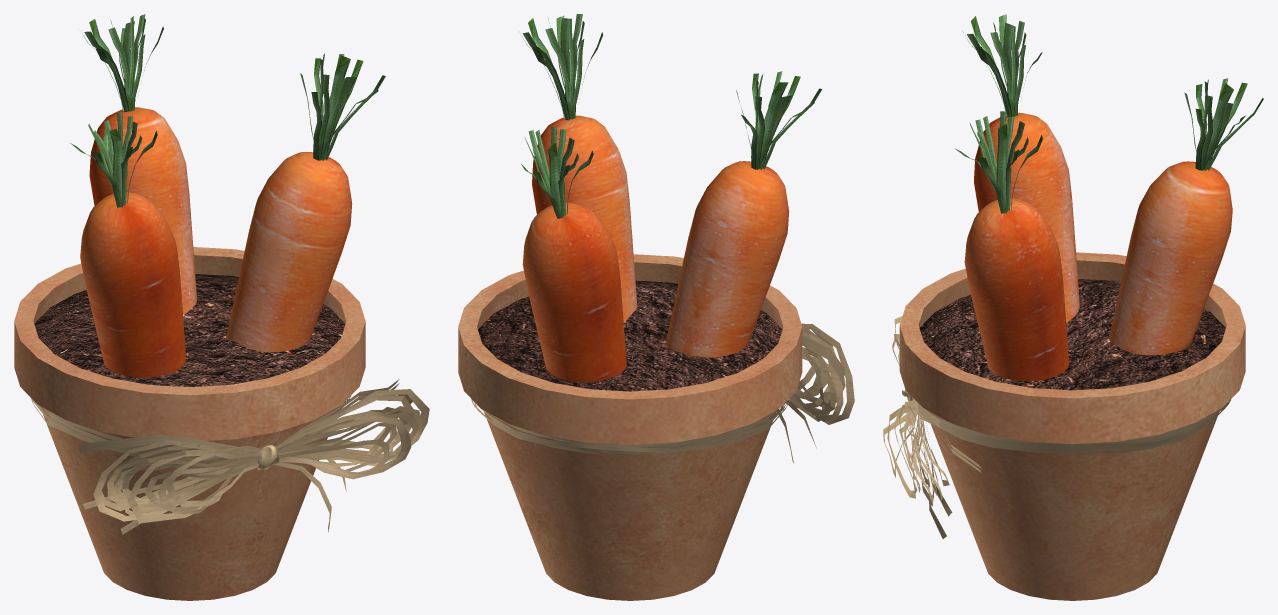
File: Carrots.fbx
3 views of the same model, side by side, from view 1: azimuth 30°, elevation 25°; view 2: azimuth 150°, elevation 25°; view 3: azimuth 270°, elevation 25° (orthographic). The views are drawn at different scales.
Parts seen in each view (by area): view 1: Cylinder.001, Cylinder, Plane.001, Cylinder.002; view 2: Cylinder.001, Cylinder, Plane.001, Cylinder.002; view 3: Cylinder.001, Cylinder, Plane.001, Cylinder.002.
Part boxes in pixels (bbox=[...]): Cylinder.001: bbox=[14, 247, 365, 600]; Cylinder: bbox=[70, 14, 385, 377]; Plane.001: bbox=[78, 379, 429, 534]; Cylinder.002: bbox=[31, 396, 350, 462]; Cylinder.001: bbox=[458, 254, 802, 600]; Cylinder: bbox=[521, 14, 822, 382]; Plane.001: bbox=[776, 323, 854, 463]; Cylinder.002: bbox=[471, 397, 790, 456]; Cylinder.001: bbox=[899, 252, 1245, 600]; Cylinder: bbox=[954, 14, 1263, 381]; Plane.001: bbox=[883, 316, 981, 538]; Cylinder.002: bbox=[916, 399, 1231, 454].
Size of the model in its own units: 153 by 224 by 155.
